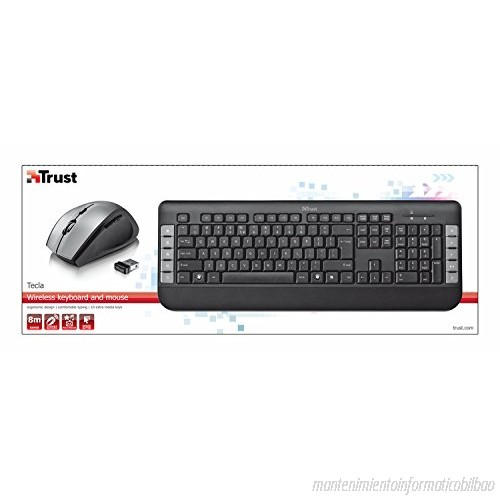Teclado: (156, 198, 464, 312)
